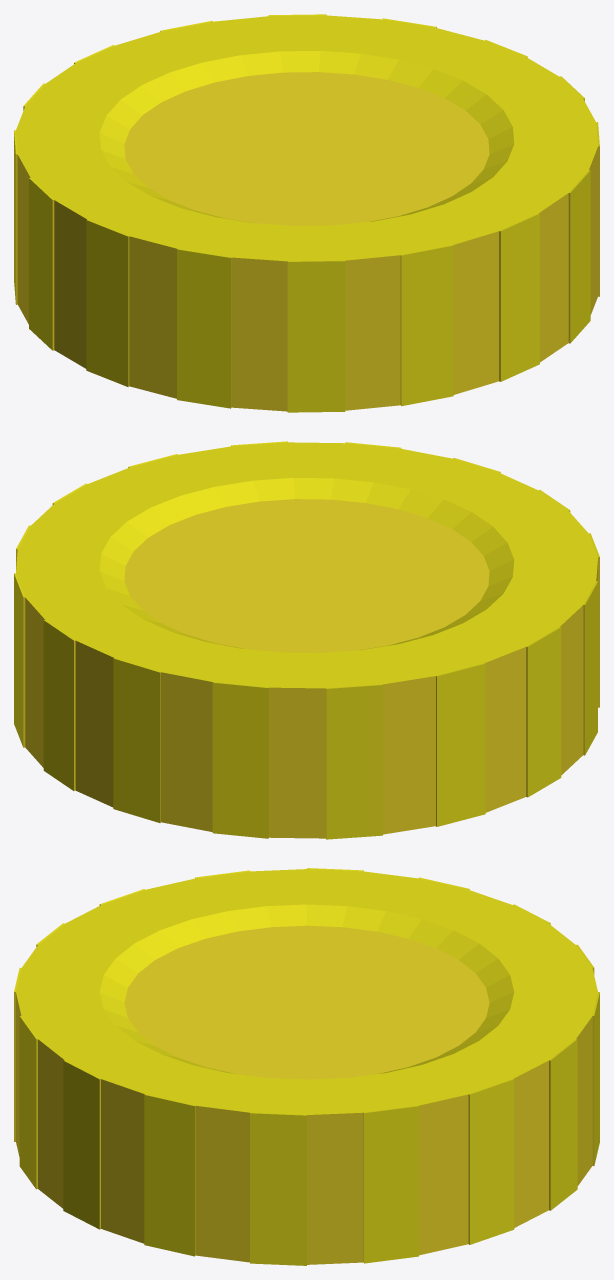
The model's file is coin (1).fbx.
3 renders of one model, top to bottom at view 1: azimuth 30°, elevation 25°; view 2: azimuth 150°, elevation 25°; view 3: azimuth 270°, elevation 25°, orthographic.
Visible parts, largest first — view 1: Circle; view 2: Circle; view 3: Circle.
Boxes of the visible parts, x1,y1,x2,y2 form: Circle: [14, 14, 599, 412]; Circle: [14, 441, 599, 839]; Circle: [14, 868, 599, 1265].
Bounding box in the file's own units: 201 × 56.97 × 201.
